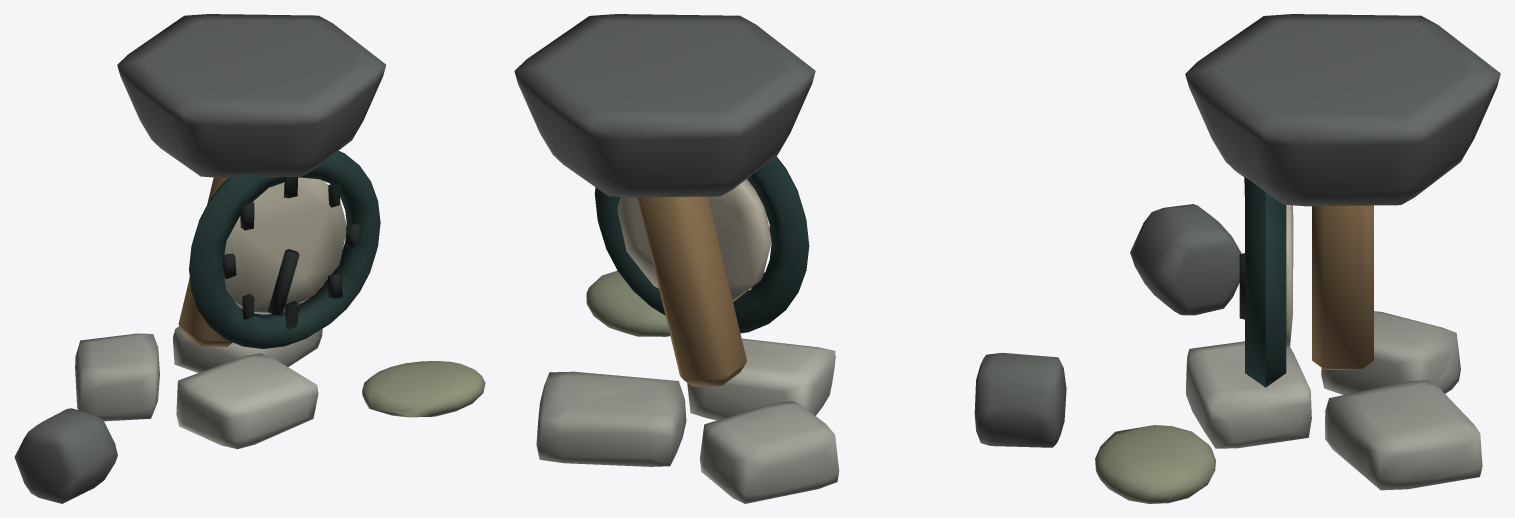
The model's file is rain_gauge_b_lod1.glb.
3 views of the same model, side by side, from view 1: azimuth 30°, elevation 25°; view 2: azimuth 150°, elevation 25°; view 3: azimuth 270°, elevation 25° (orthographic). The views are drawn at different scales.
Parts seen in each view (by area): view 1: Surface.001; view 2: Surface.001; view 3: Surface.001.
Part boxes in pixels (box(x1,y1,x2,y2)): Surface.001: box(14, 14, 485, 503); Surface.001: box(514, 14, 1066, 503); Surface.001: box(1095, 14, 1500, 503).
Bounding box in the file's own units: 1.92 × 1.39 × 1.31.
